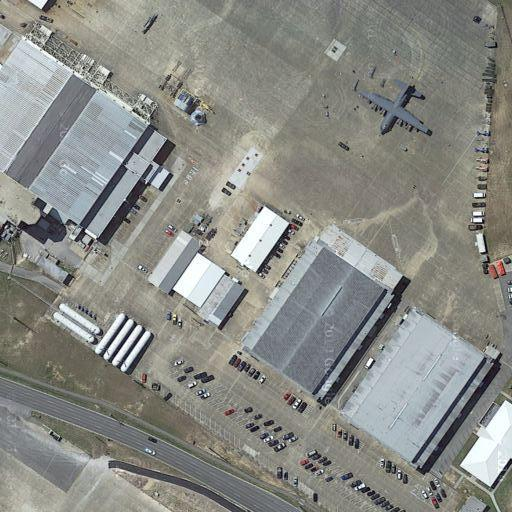C-130: (360, 73, 437, 139)
